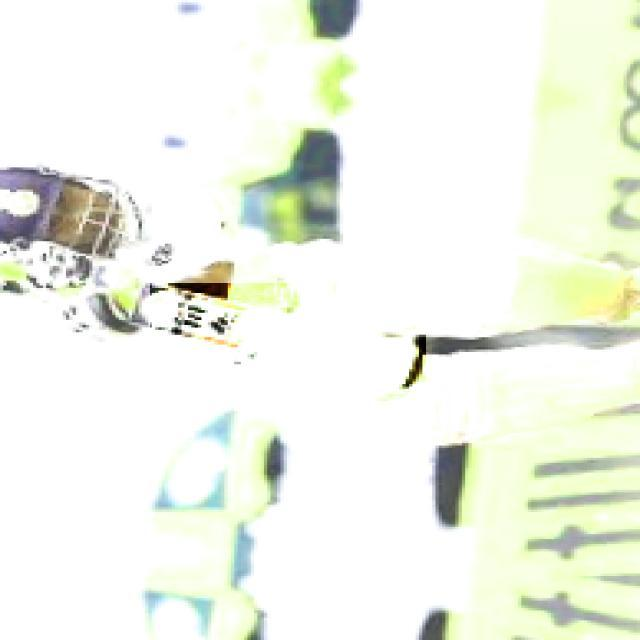bat: (65, 240, 424, 411)
